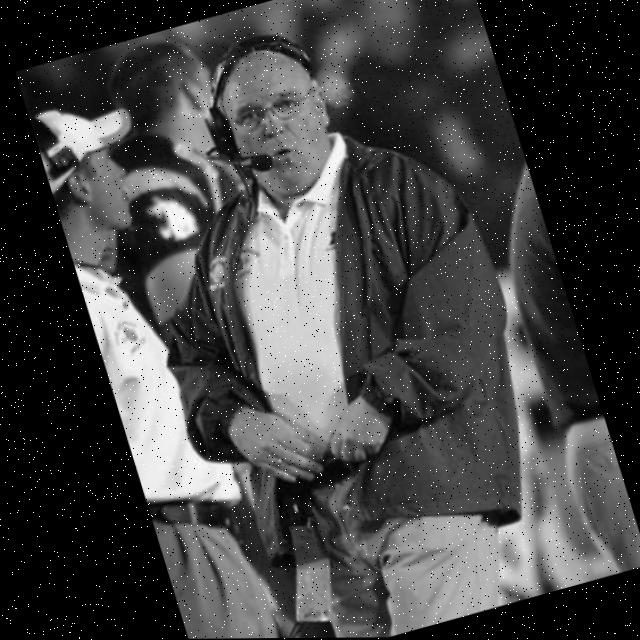face: (201, 25, 358, 214), (46, 126, 149, 276)
